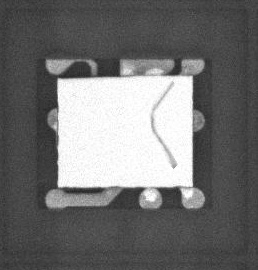DIE_INK: (142, 83, 169, 176)
